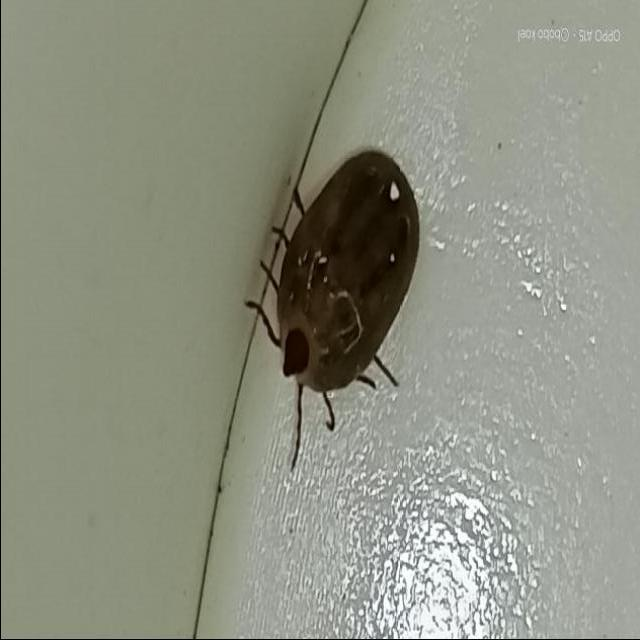Rhipicephalus Sanguineus-F-Fed: (242, 150, 418, 470)
